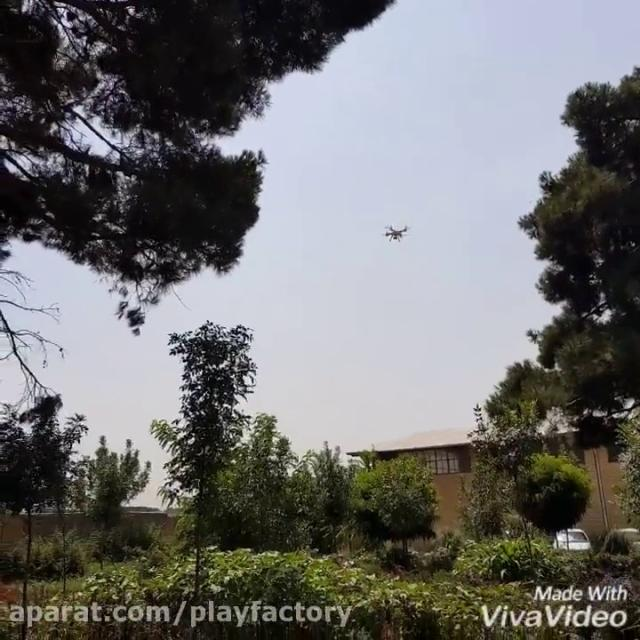drone: (379, 220, 412, 243)
